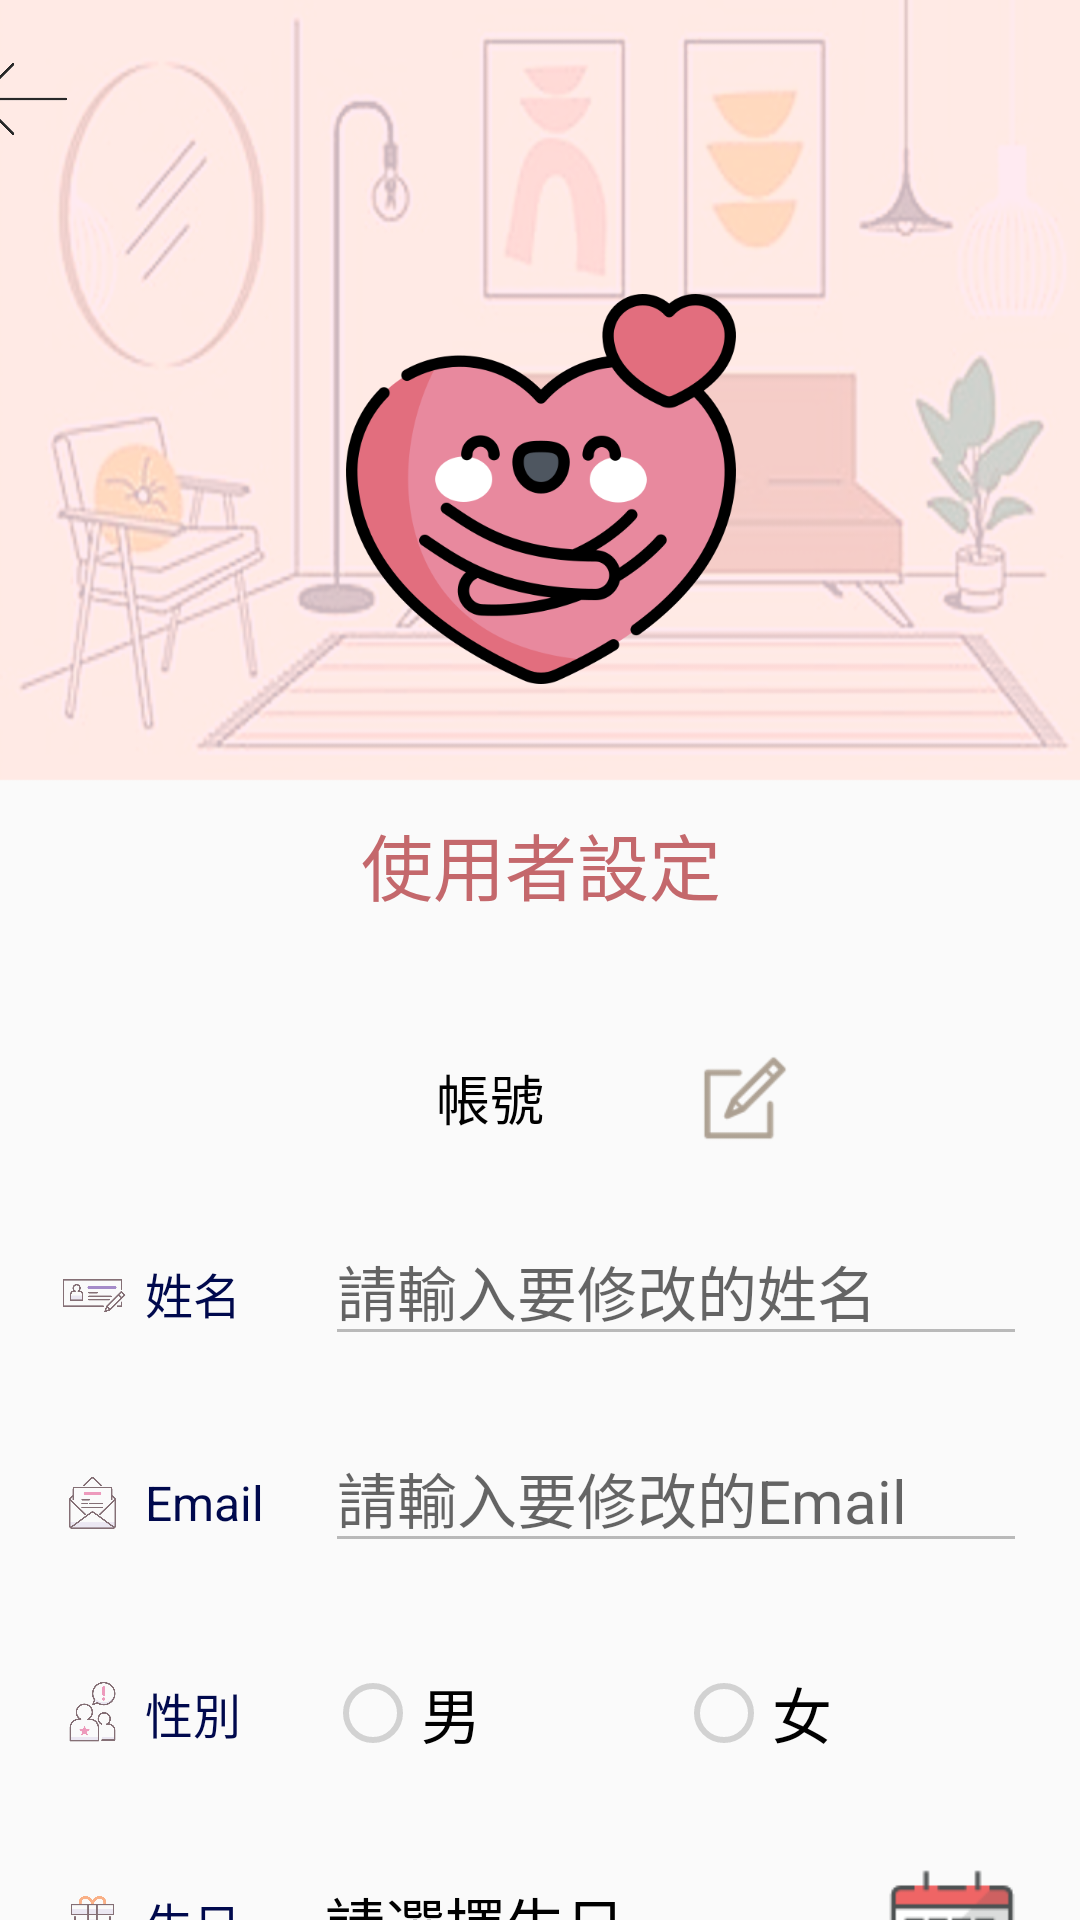

Point at icon controls on the screen. Image size 1080×1920, points as (x,y).
write: (745,1098)
